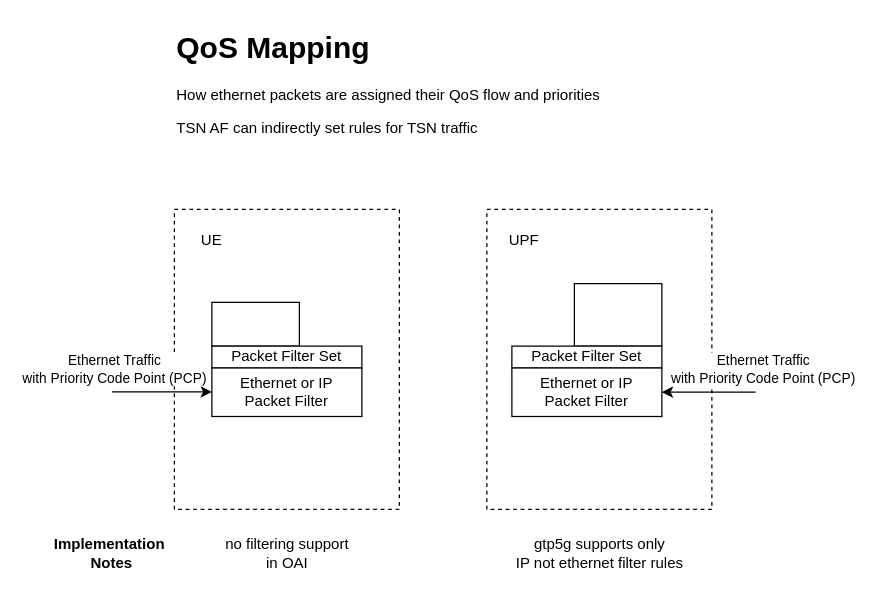
Image size: 876x599. Some labels were removed from this diagram. The centre of each missing label's shape, as x and y in pixels:
"Packet Detection Rule" goes at (x=617, y=314).
"QoS Rule" goes at (x=255, y=323).
